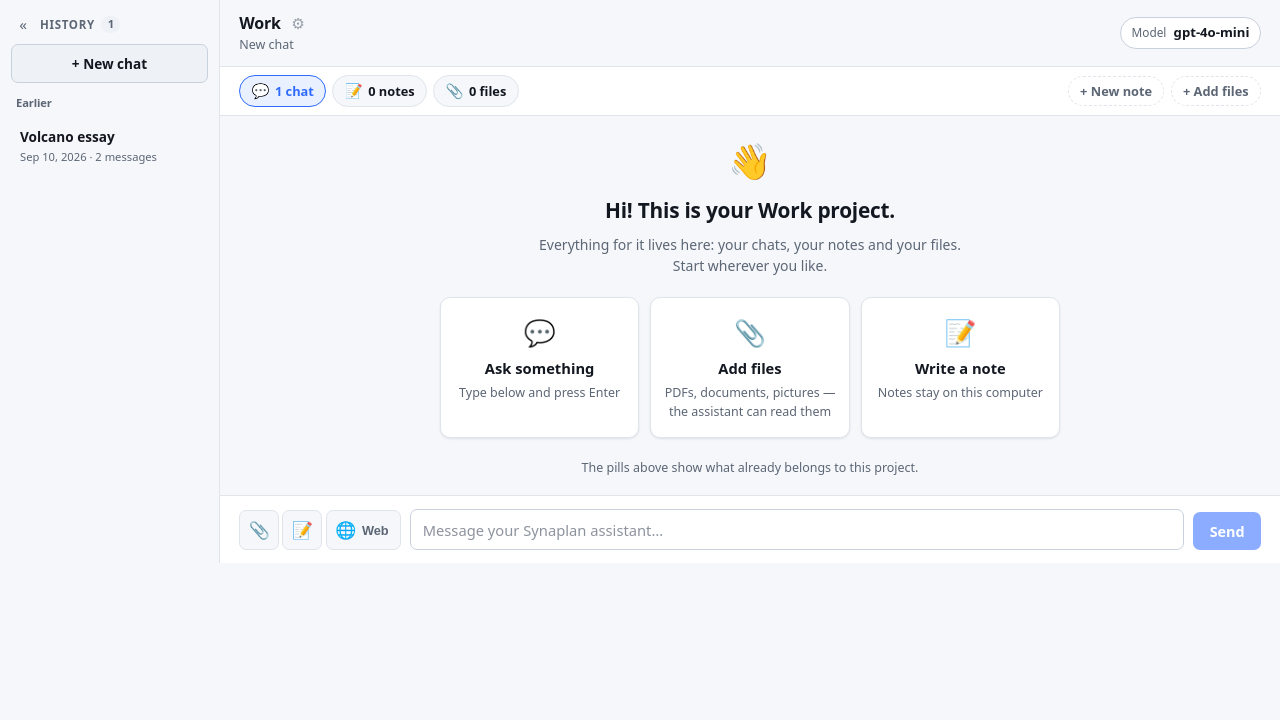
it: ChatView › folds the history to a date rail whose stamps unfold a preview card to the right
Check: the element with test id "chat-threads" shows "Volcano essay", box top-left (11, 119), bottom-right (183, 172)
# The chats pill folds it to a rail: "+" and one stamp per chat, no title.
Click the button with test id "pill-chats" at (283, 91), box top-left (239, 75), bottom-right (326, 107)
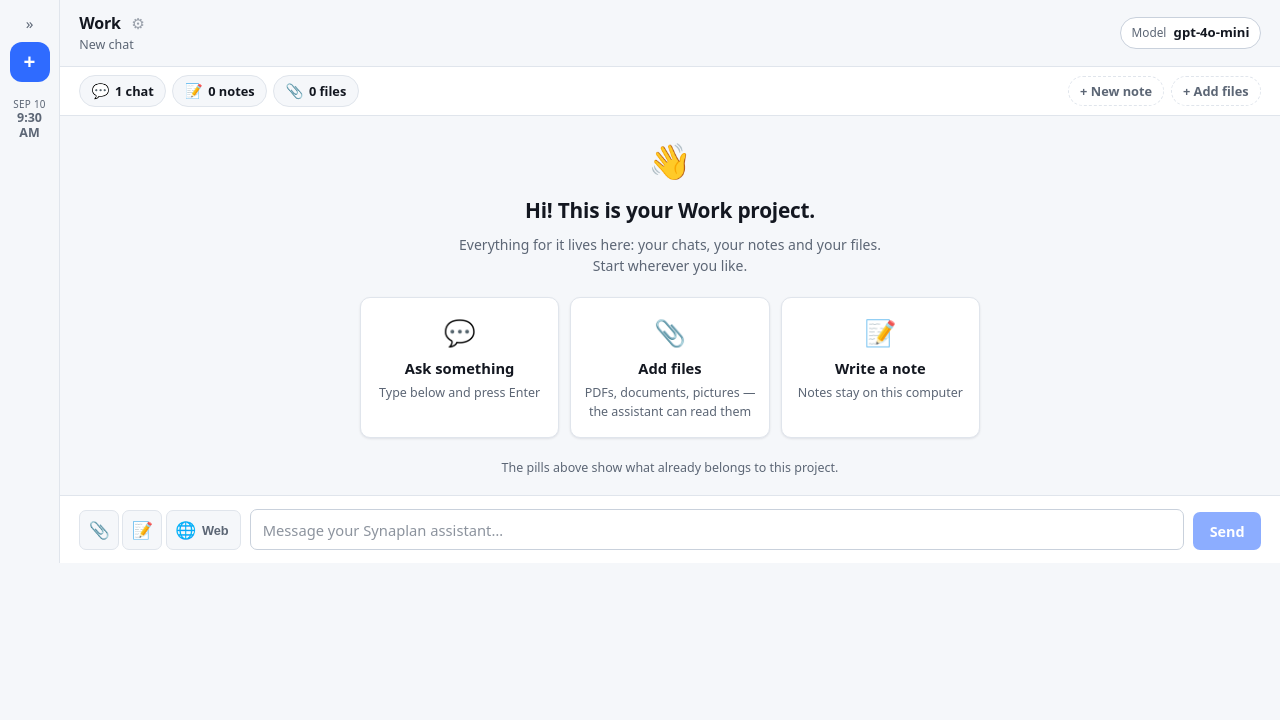
Check: the button with test id "chat-new-thread" reads "+", box top-left (10, 42), bottom-right (50, 82)
Check: the button with test id "chat-thread-c1" no longer shows "Volcano essay"
# Hover: the card shows the title and the first lines, without opening the chat.
Hover over the button with test id "chat-thread-c1" at (30, 120), box top-left (6, 93), bottom-right (54, 148)
Wait 300 ms
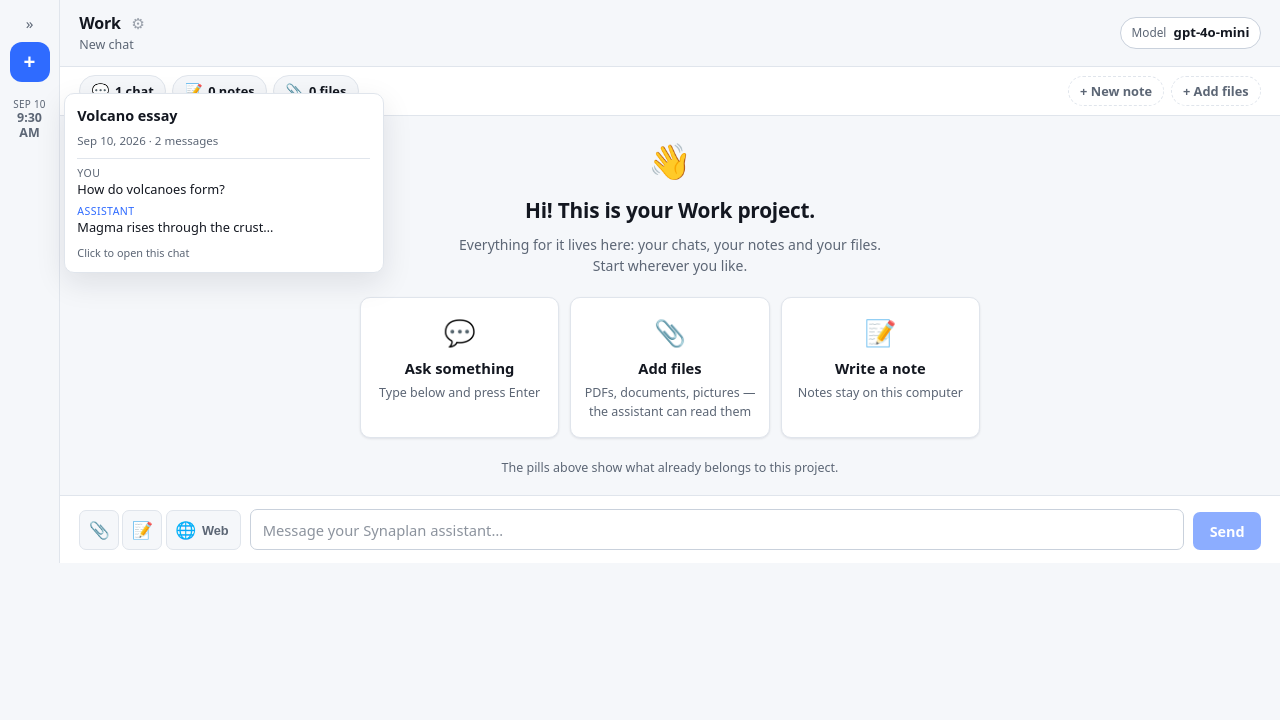
Check: the element with test id "chat-welcome" is shown, box top-left (360, 134), bottom-right (980, 478)
Check: the tooltip with test id "chat-peek" shows "Volcano essay", box top-left (77, 106), bottom-right (178, 125)
Check: the tooltip with test id "chat-peek" shows "Magma rises through the crust", box top-left (77, 218), bottom-right (273, 236)
Move the pointer off the button with test id "chat-thread-c1", box top-left (6, 93), bottom-right (54, 148)
Wait 300 ms
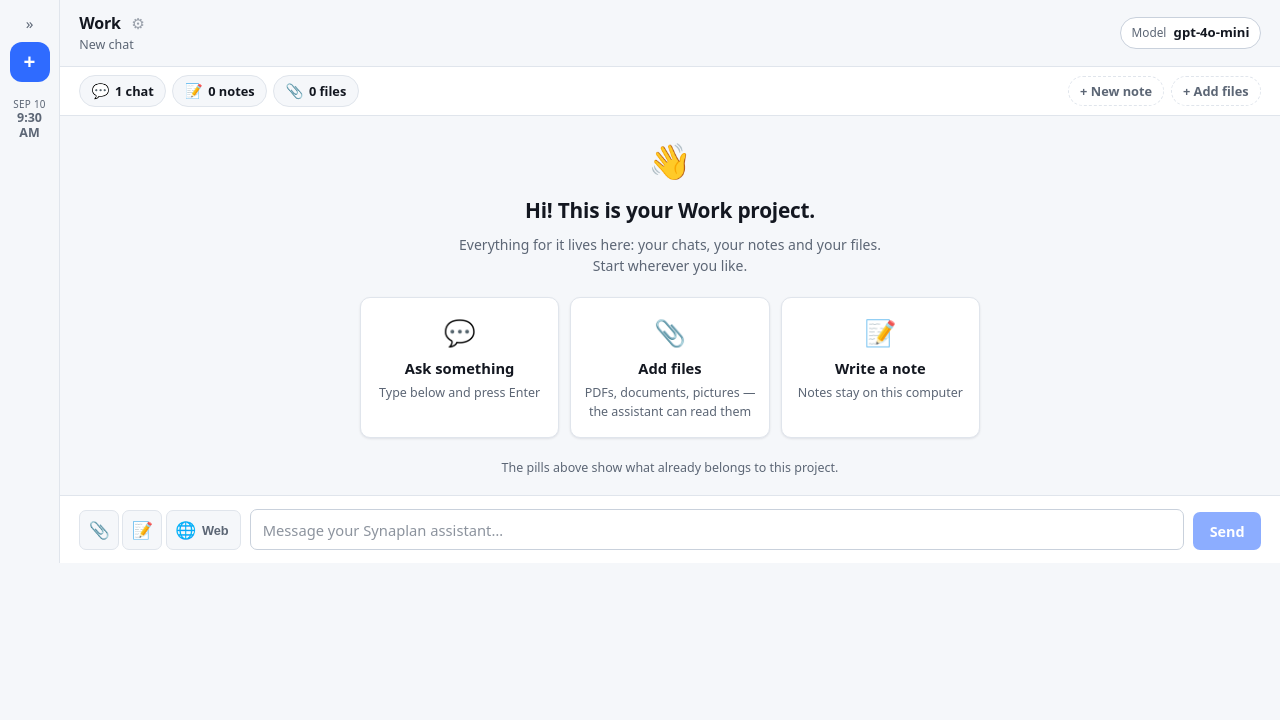
Check: the tooltip with test id "chat-peek" is gone
# The rail's own button unfolds it again.
Click the button with test id "chat-history-toggle" at (30, 23), box top-left (18, 11), bottom-right (42, 35)
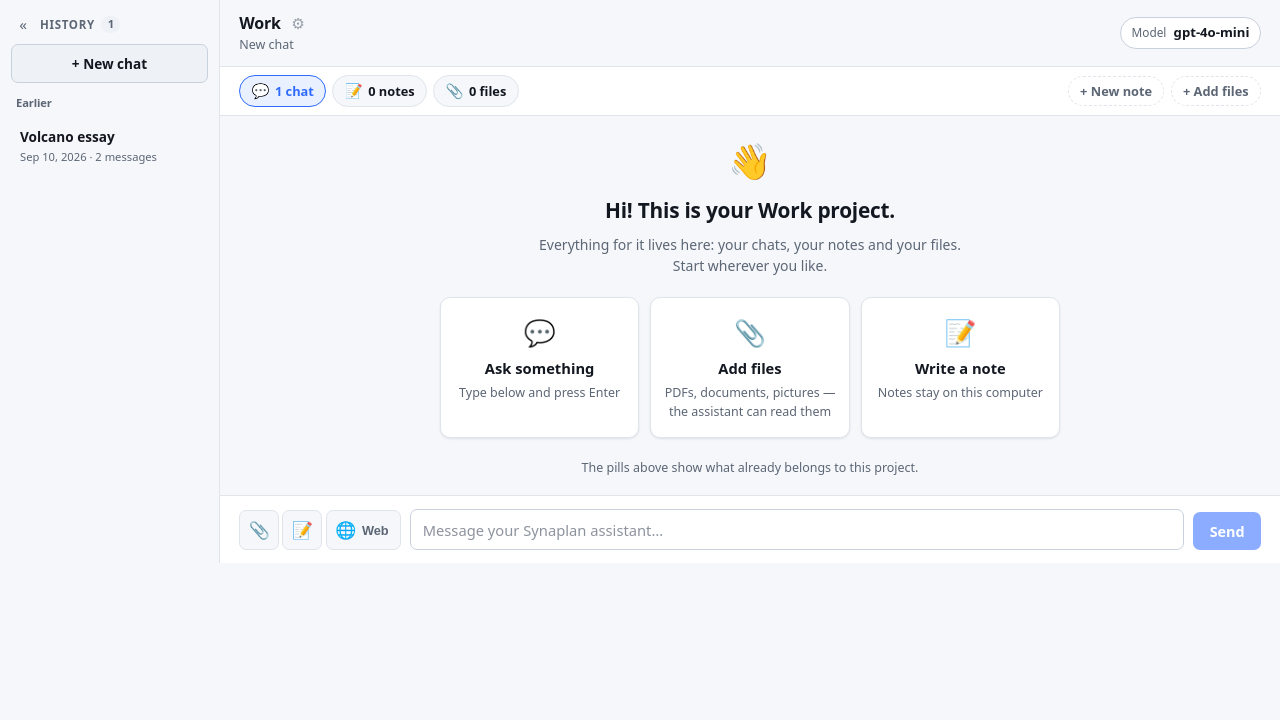
Check: the element with test id "chat-threads" shows "Volcano essay", box top-left (11, 119), bottom-right (183, 172)
